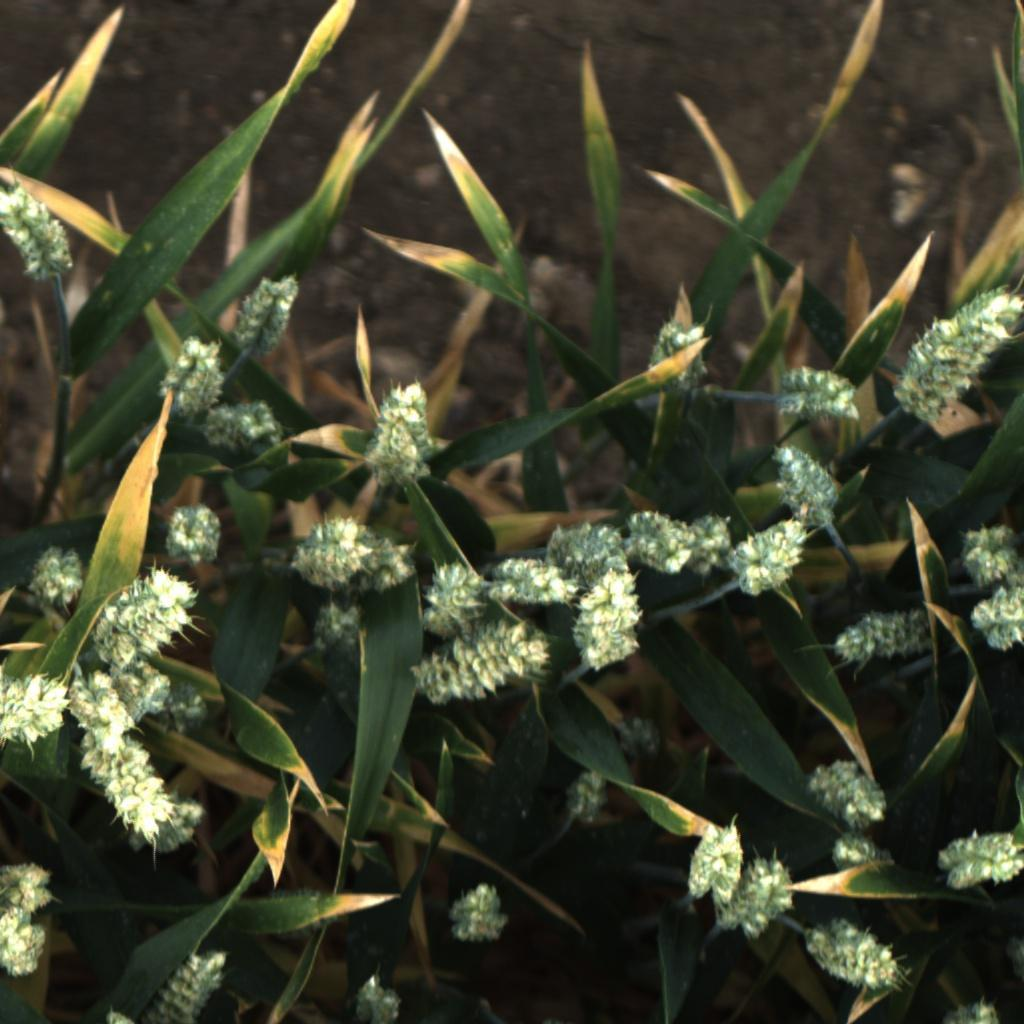0-0: (893, 280, 1024, 424), (408, 620, 557, 708), (93, 563, 203, 666), (77, 725, 172, 842), (802, 912, 901, 996), (365, 379, 438, 491), (569, 569, 643, 677), (0, 181, 77, 278), (150, 941, 236, 1024), (288, 512, 374, 595), (804, 747, 894, 826), (732, 516, 814, 601), (761, 443, 840, 531), (63, 667, 139, 754), (481, 553, 582, 617), (642, 318, 716, 404), (715, 855, 793, 935), (307, 599, 370, 698), (413, 559, 486, 643), (236, 267, 307, 352), (623, 501, 700, 576), (938, 828, 1023, 895), (201, 394, 282, 463), (160, 332, 227, 415), (686, 816, 748, 905), (0, 665, 68, 746), (544, 514, 631, 576), (833, 607, 923, 666), (779, 361, 861, 425), (950, 518, 1024, 583), (958, 586, 1023, 660), (157, 499, 226, 567), (682, 504, 743, 580), (446, 879, 513, 947), (108, 662, 178, 726), (355, 526, 418, 595), (23, 542, 89, 606), (0, 854, 57, 916), (560, 763, 613, 829), (0, 912, 51, 979), (156, 796, 209, 860), (349, 970, 407, 1024), (161, 678, 211, 738), (828, 831, 895, 868), (938, 999, 1007, 1024)
